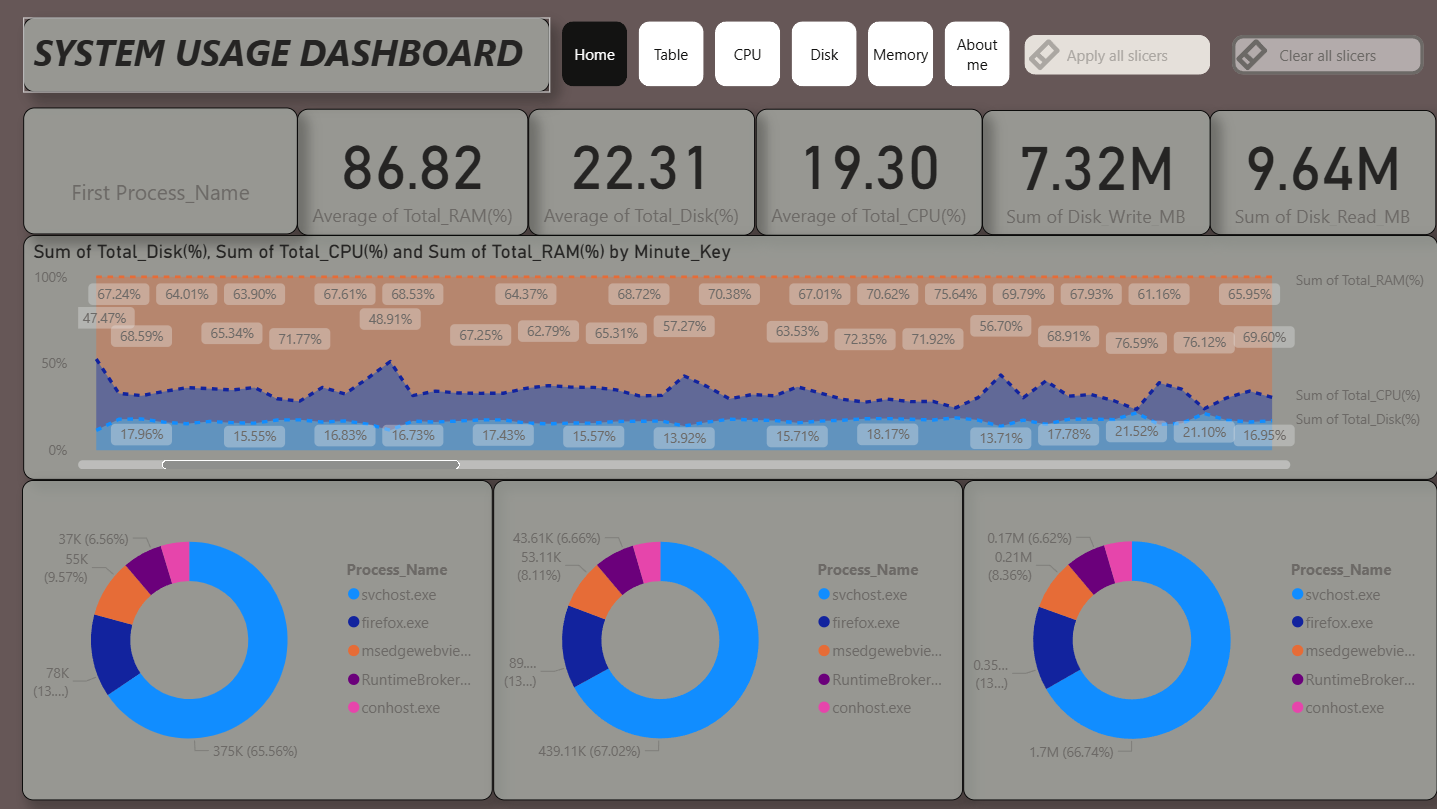

The page's visual inventory and layout, read from the dashboard file:
{"tool":"powerbi","page":{"name":"Home","canvas":[1280,720],"ordinal":0},"visuals":[{"type":"card","fields":{"Values":["Sum(system_usage.Disk_Read_MB)"]},"box":[1078.3,97.6,201.4,111.4],"z":0},{"type":"card","fields":{"Values":["Sum(system_usage.Disk_Write_MB)"]},"box":[875.5,97.6,202.9,111.4],"z":1000},{"type":"card","fields":{"Values":["Avg(system_usage.Total_CPU(%))"]},"box":[674,96.1,201.4,112.9],"z":2000},{"type":"card","fields":{"Values":["Avg(system_usage.Total_Disk(%))"]},"box":[472.6,96.1,201.4,112.9],"z":3000},{"type":"card","fields":{"Values":["Avg(system_usage.Total_RAM(%))"]},"box":[266.9,96.1,205.7,112.9],"z":4000},{"type":"hundredPercentStackedAreaChart","fields":{"Category":["system_usage.Minute_Key"],"Y":["Sum(system_usage.Total_Disk(%))","Sum(system_usage.Total_CPU(%))","Sum(system_usage.Total_RAM(%))"]},"box":[23,208.5,1257.2,217.4],"z":5000},{"type":"donutChart","fields":{"Y":["Sum(system_usage.Total_CPU(%))"],"Category":["system_usage.Process_Name"]},"box":[22.5,426.2,418.8,285],"z":6000},{"type":"donutChart","fields":{"Category":["system_usage.Process_Name"],"Y":["Sum(system_usage.Total_Disk(%))"]},"box":[441.2,426.2,417.5,285],"z":7000},{"type":"donutChart","fields":{"Category":["system_usage.Process_Name"],"Y":["Sum(system_usage.Total_RAM(%))"]},"box":[858.8,426.2,421.2,285],"z":8000},{"type":"textbox","box":[23,15.3,468.1,66.5],"z":9000},{"type":"actionButton","box":[1097.3,31.1,170.5,35.2],"z":10000},{"type":"pageNavigator","box":[502.6,19.2,401.6,58.8],"z":11000},{"type":"card","fields":{"Values":["Min(system_usage.Process_Name)"]},"box":[23,95.9,244.3,112.6],"z":12000},{"type":"actionButton","box":[913.3,31.1,165.1,35.2],"z":13000}]}

Visuals, with their boxes in screenshot pixels (x1, y1, x2, y2), scaled from the page's 1280x720 canvas onto the 1437x809 screenshot:
card - Sum(system_usage.Disk_Read_MB): 1211:110:1436:235
card - Sum(system_usage.Disk_Write_MB): 983:110:1211:235
card - Avg(system_usage.Total_CPU(%)): 757:108:983:235
card - Avg(system_usage.Total_Disk(%)): 531:108:757:235
card - Avg(system_usage.Total_RAM(%)): 300:108:531:235
hundredPercentStackedAreaChart - system_usage.Minute_Key x Sum(system_usage.Total_Disk(%)): 26:234:1436:479
donutChart - Sum(system_usage.Total_CPU(%)) x system_usage.Process_Name: 25:479:495:799
donutChart - system_usage.Process_Name x Sum(system_usage.Total_Disk(%)): 495:479:964:799
donutChart - system_usage.Process_Name x Sum(system_usage.Total_RAM(%)): 964:479:1436:799
textbox: 26:17:551:92
actionButton: 1232:35:1423:74
pageNavigator: 564:22:1015:88
card - Min(system_usage.Process_Name): 26:108:300:234
actionButton: 1025:35:1211:74
